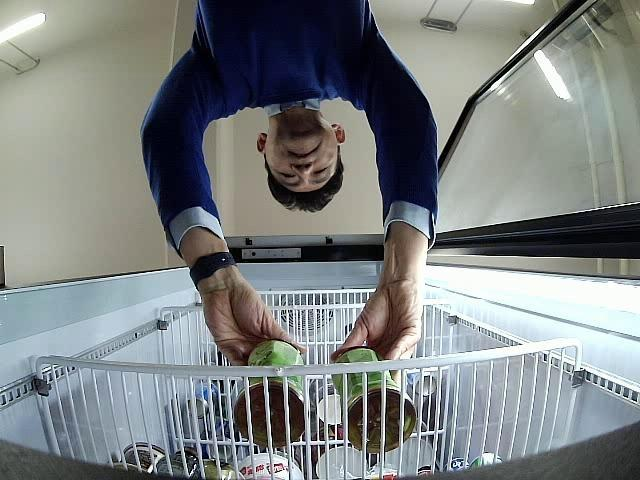19_17cha: (330, 345, 414, 454), (236, 338, 307, 448)
